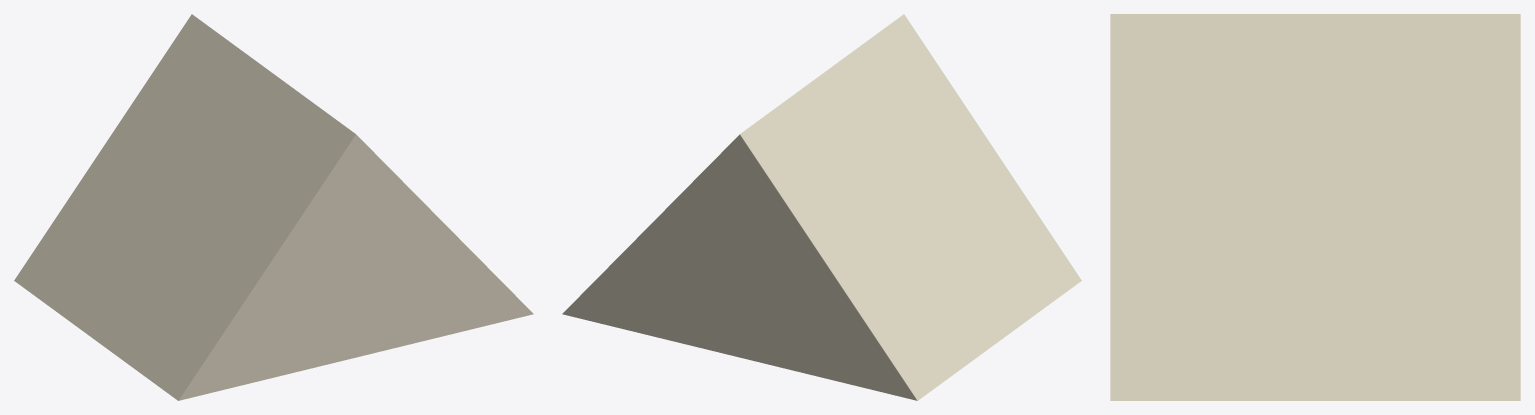
File: rock.glb
3 renders of one model, left to right at view 1: azimuth 30°, elevation 25°; view 2: azimuth 150°, elevation 25°; view 3: azimuth 270°, elevation 25°, orthographic. The views are drawn at different scales.
Bounding box in the file's own units: 2.5 × 1.5 × 2.
